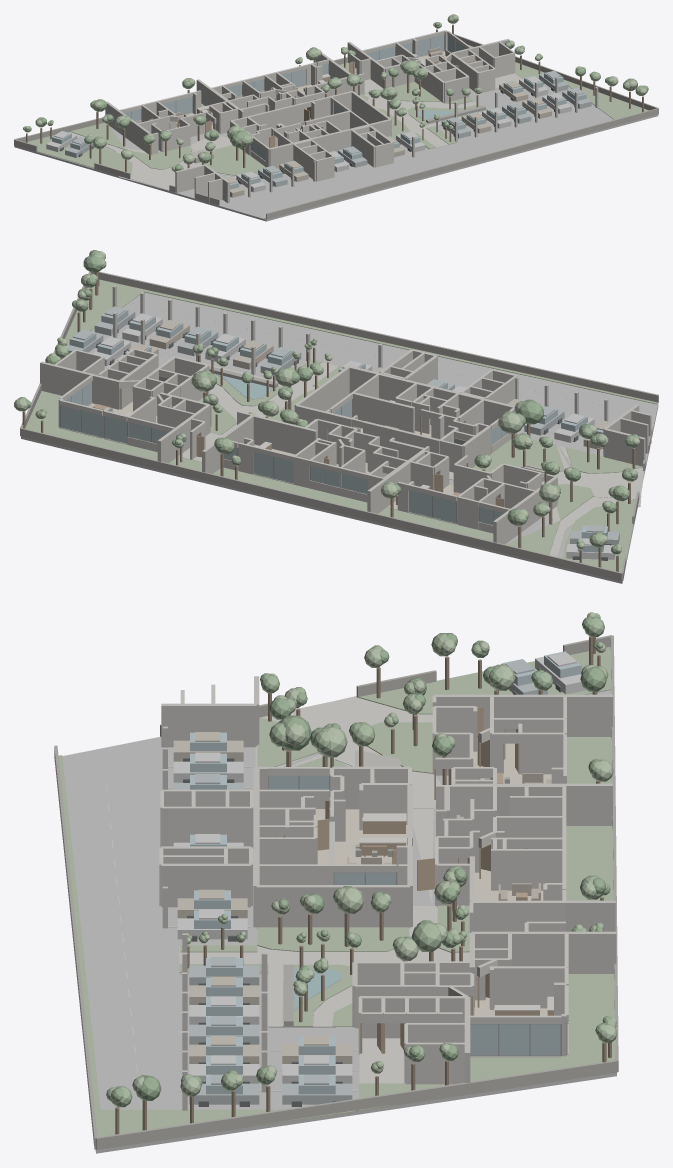
File: planta-pb.glb
3 renders of one model, top to bottom at view 1: azimuth 30°, elevation 25°; view 2: azimuth 150°, elevation 25°; view 3: azimuth 270°, elevation 25°, orthographic. The views are drawn at different scales.
Parts seen in each view (by area): view 1: 00_Terreno__Predio_001, 01_Exterior__Cerramiento_006, 03_Departamento_1__Muro_020, 01_Exterior__Patio central pavimento_003, 02_Jardines__Jardin occidental_002, 02_Jardines__Jardin acceso alto_001, 01_Exterior__Plaza peatonal_002, 02_Jardines__Jardin sur acceso_004, 02_Jardines__Jardin perimetral este_016, 01_Exterior__Cerramiento_005, 03_Departamento_1__Muro_002, 04_Departamento_2__Muro_002 (+29 smaller); view 2: 00_Terreno__Predio_001, 01_Exterior__Cerramiento_004, 01_Exterior__Cerramiento_006, 03_Departamento_1__Muro_020, 06_Departamento_4__Muro_016, 02_Jardines__Jardin patio 4_008, 02_Jardines__Jardin acceso alto_001, 05_Departamento_3__Muro_020, 03_Departamento_1__Muro_007, 02_Jardines__Jardin perimetral este_016, 02_Jardines__Jardin perimetral sur_017, 02_Jardines__Jardin occidental_002 (+33 smaller); view 3: 00_Terreno__Predio_001, 01_Exterior__Cerramiento_005, 02_Jardines__Jardin patio 4_008, 01_Exterior__Patio central pavimento_003, 03_Departamento_1__Muro_004, 06_Departamento_4__Muro_002, 04_Departamento_2__Muro_002, 07_Comun__Muro_035, 01_Exterior__Plaza peatonal_002, 07_Comun__Muro_040, 02_Jardines__Jardin patio 3_006, 07_Comun__Muro_046 (+48 smaller).
Boxes of the visible parts, box(x1,y1,x2,y2) form: 00_Terreno__Predio_001: box(14, 83, 658, 221); 01_Exterior__Cerramiento_006: box(266, 108, 658, 219); 03_Departamento_1__Muro_020: box(269, 119, 391, 168); 01_Exterior__Patio central pavimento_003: box(364, 93, 481, 149); 02_Jardines__Jardin occidental_002: box(70, 122, 192, 169); 02_Jardines__Jardin acceso alto_001: box(27, 135, 132, 175); 01_Exterior__Plaza peatonal_002: box(130, 137, 236, 190); 02_Jardines__Jardin sur acceso_004: box(204, 145, 265, 175); 02_Jardines__Jardin perimetral este_016: box(563, 79, 648, 119); 01_Exterior__Cerramiento_005: box(454, 34, 658, 110); 03_Departamento_1__Muro_002: box(247, 103, 303, 128); 04_Departamento_2__Muro_002: box(105, 101, 151, 154); 00_Terreno__Predio_001: box(21, 292, 658, 583); 01_Exterior__Cerramiento_004: box(20, 428, 622, 581); 01_Exterior__Cerramiento_006: box(91, 271, 658, 402); 03_Departamento_1__Muro_020: box(349, 366, 514, 425); 06_Departamento_4__Muro_016: box(40, 361, 119, 409); 02_Jardines__Jardin patio 4_008: box(25, 391, 157, 460); 02_Jardines__Jardin acceso alto_001: box(562, 499, 635, 572); 05_Departamento_3__Muro_020: box(252, 415, 317, 454); 03_Departamento_1__Muro_007: box(352, 392, 414, 432); 02_Jardines__Jardin perimetral este_016: box(65, 279, 145, 346); 02_Jardines__Jardin perimetral sur_017: box(115, 283, 658, 404); 02_Jardines__Jardin occidental_002: box(506, 484, 593, 554); 00_Terreno__Predio_001: box(62, 690, 616, 1153); 01_Exterior__Cerramiento_005: box(96, 1060, 617, 1149); 02_Jardines__Jardin patio 4_008: box(470, 974, 615, 1081); 01_Exterior__Patio central pavimento_003: box(179, 906, 469, 1026); 03_Departamento_1__Muro_004: box(256, 885, 409, 928); 06_Departamento_4__Muro_002: box(471, 931, 616, 973); 04_Departamento_2__Muro_002: box(434, 694, 612, 736); 07_Comun__Muro_035: box(161, 703, 256, 747); 01_Exterior__Plaza peatonal_002: box(255, 697, 440, 808); 07_Comun__Muro_040: box(162, 806, 251, 847); 02_Jardines__Jardin patio 3_006: box(566, 826, 613, 900); 07_Comun__Muro_046: box(161, 863, 250, 907).
Size of the model in its own units: 71.79 by 5.12 by 33.98.
